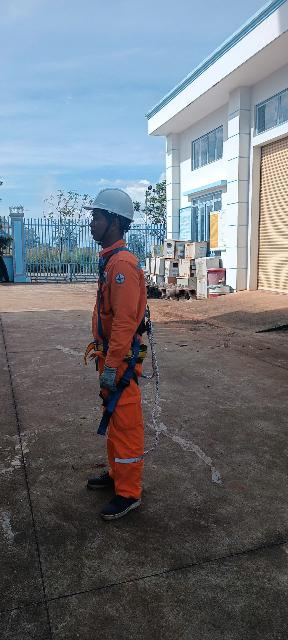gloves: (92, 358, 120, 391)
harness: (80, 331, 163, 376)
helmet: (83, 183, 148, 227)
shoes: (102, 480, 142, 521), (83, 460, 129, 492)
